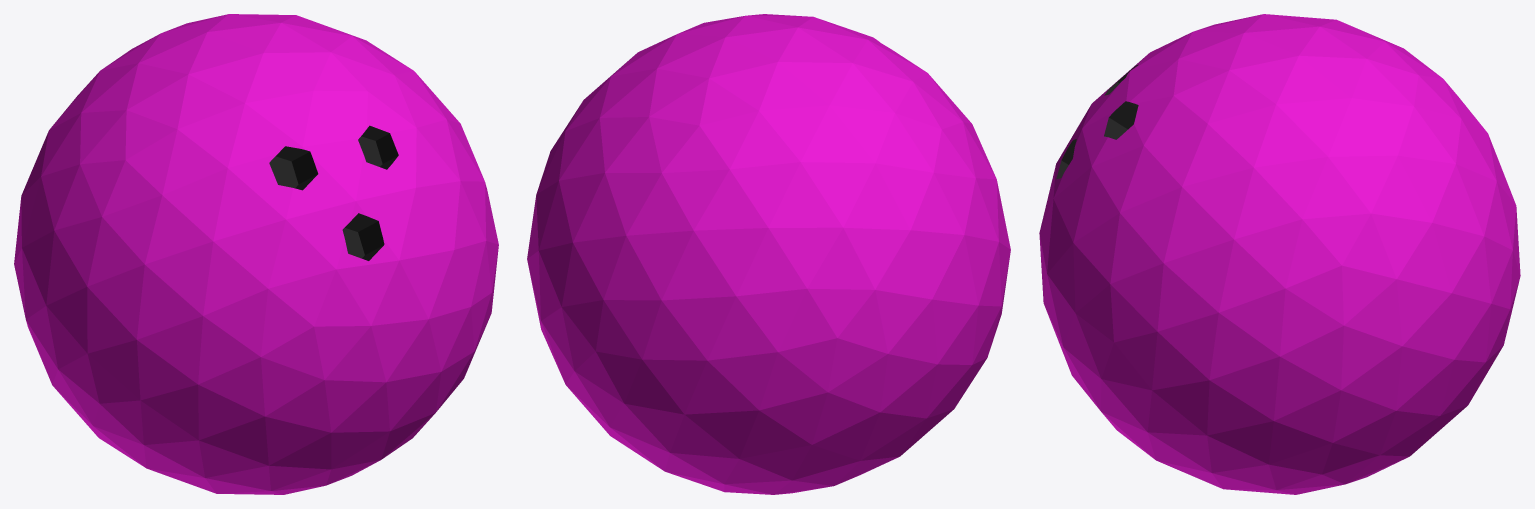
File: Bowling Ball.fbx
The picture shows the model from 3 angles, left to right: view 1: azimuth 30°, elevation 25°; view 2: azimuth 150°, elevation 25°; view 3: azimuth 270°, elevation 25°; orthographic projection.
Visible parts, largest first — view 1: Bowling Ball; view 2: Bowling Ball; view 3: Bowling Ball.
Part boxes in pixels (left/top/right/bottom): Bowling Ball: left=14, top=14, right=498, bottom=494; Bowling Ball: left=527, top=14, right=1010, bottom=494; Bowling Ball: left=1039, top=14, right=1520, bottom=494.
Bounding box in the file's own units: 40 × 39.5 × 39.84.
